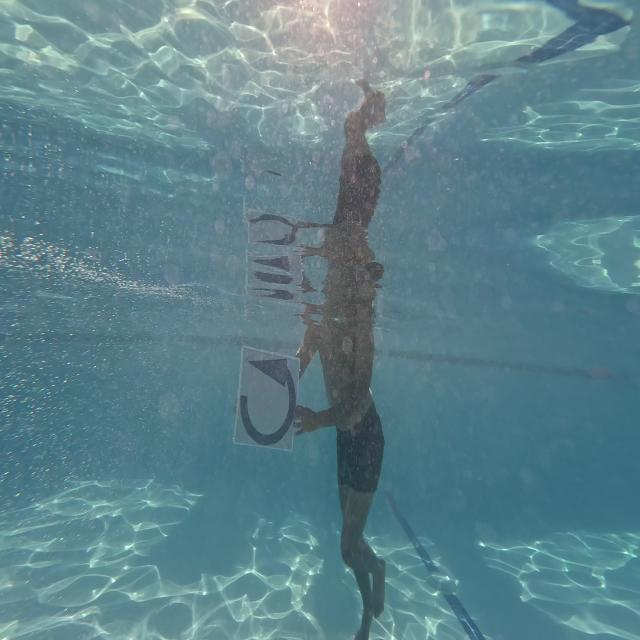blue_side: (233, 338, 301, 460)
